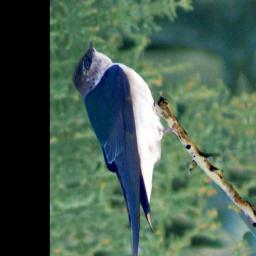Swallow: (67, 23, 199, 256)
